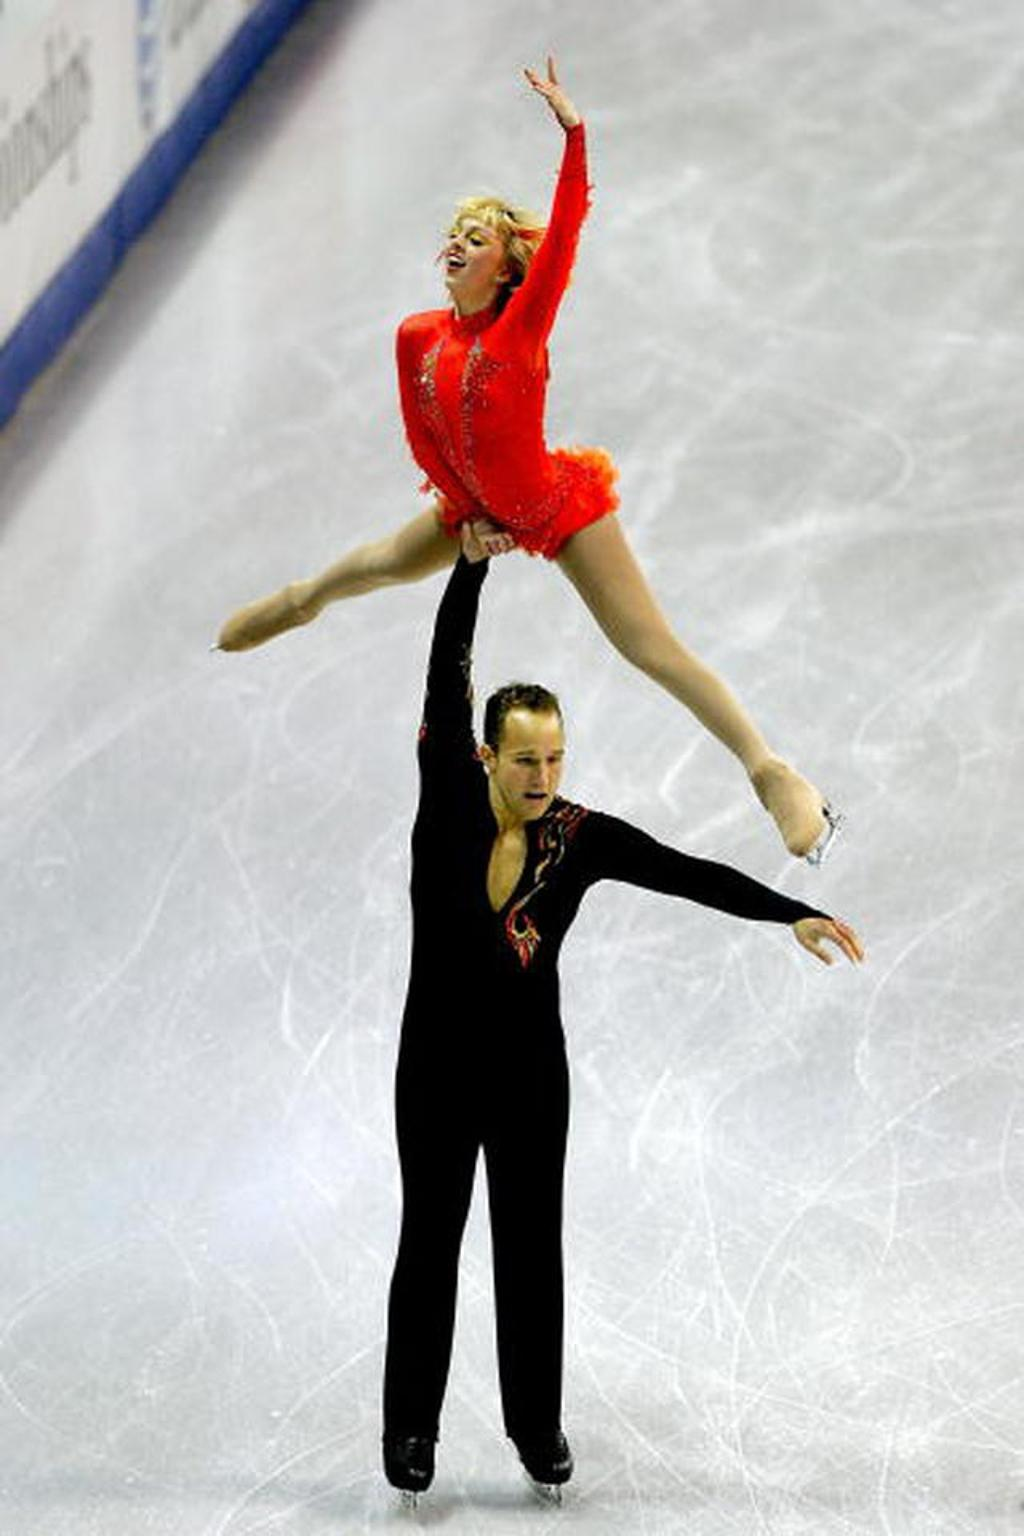face: (492, 706, 561, 817), (444, 210, 501, 291)
